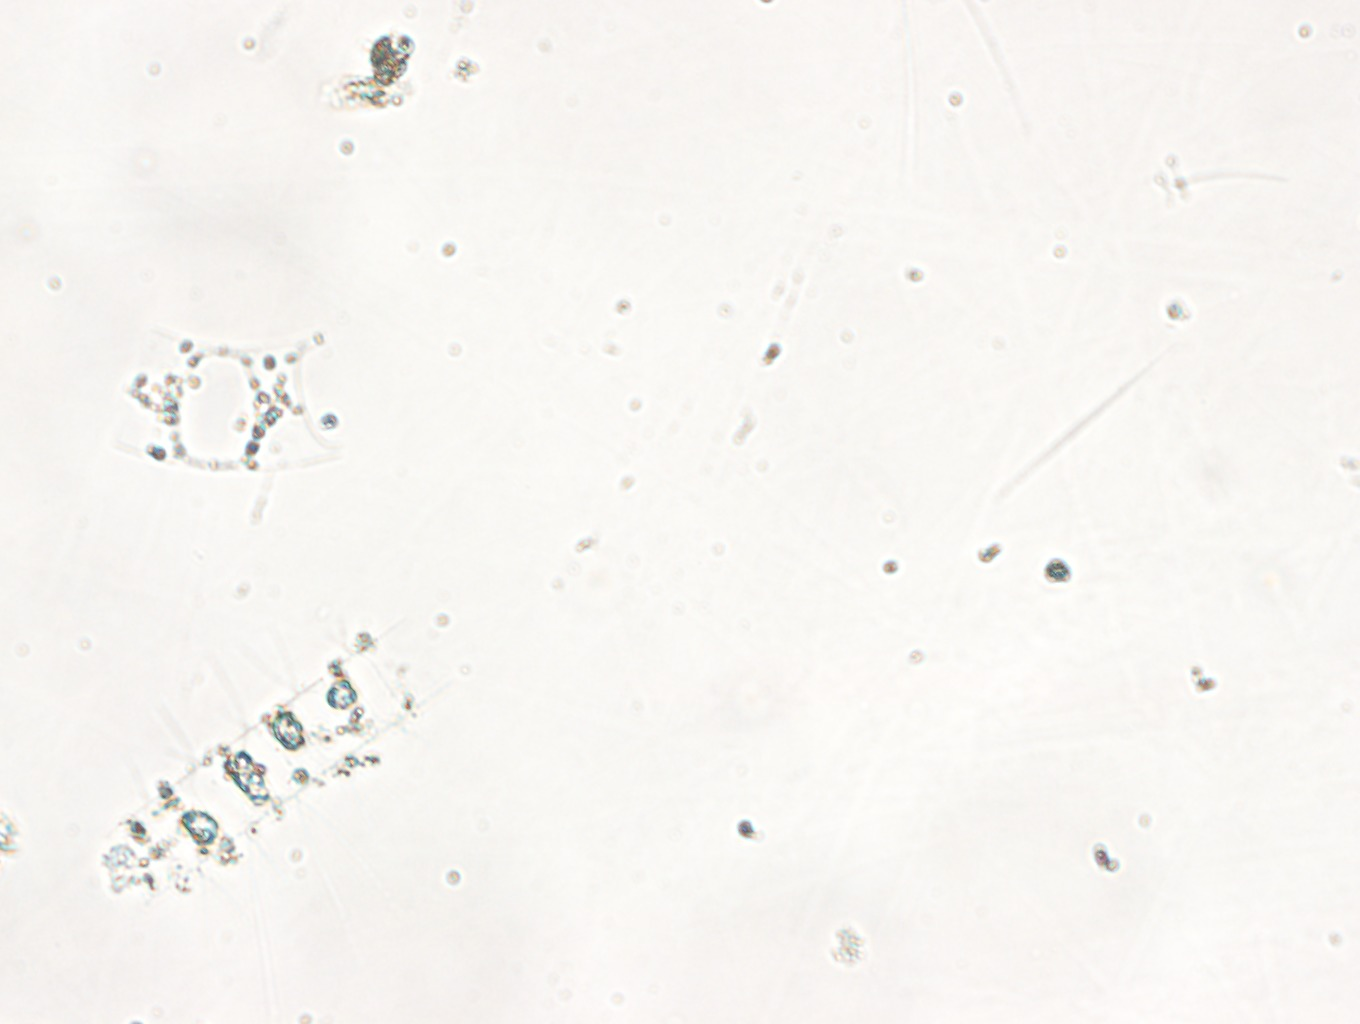chaetoceros: (89, 621, 442, 914)
eucampia: (117, 322, 352, 473)
